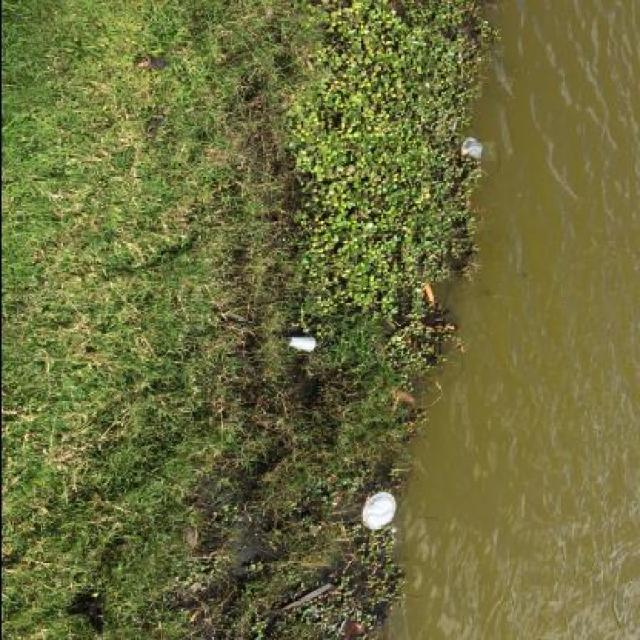cardboard: (284, 337, 314, 352)
foam: (360, 492, 394, 530)
plastic: (458, 138, 482, 159)
